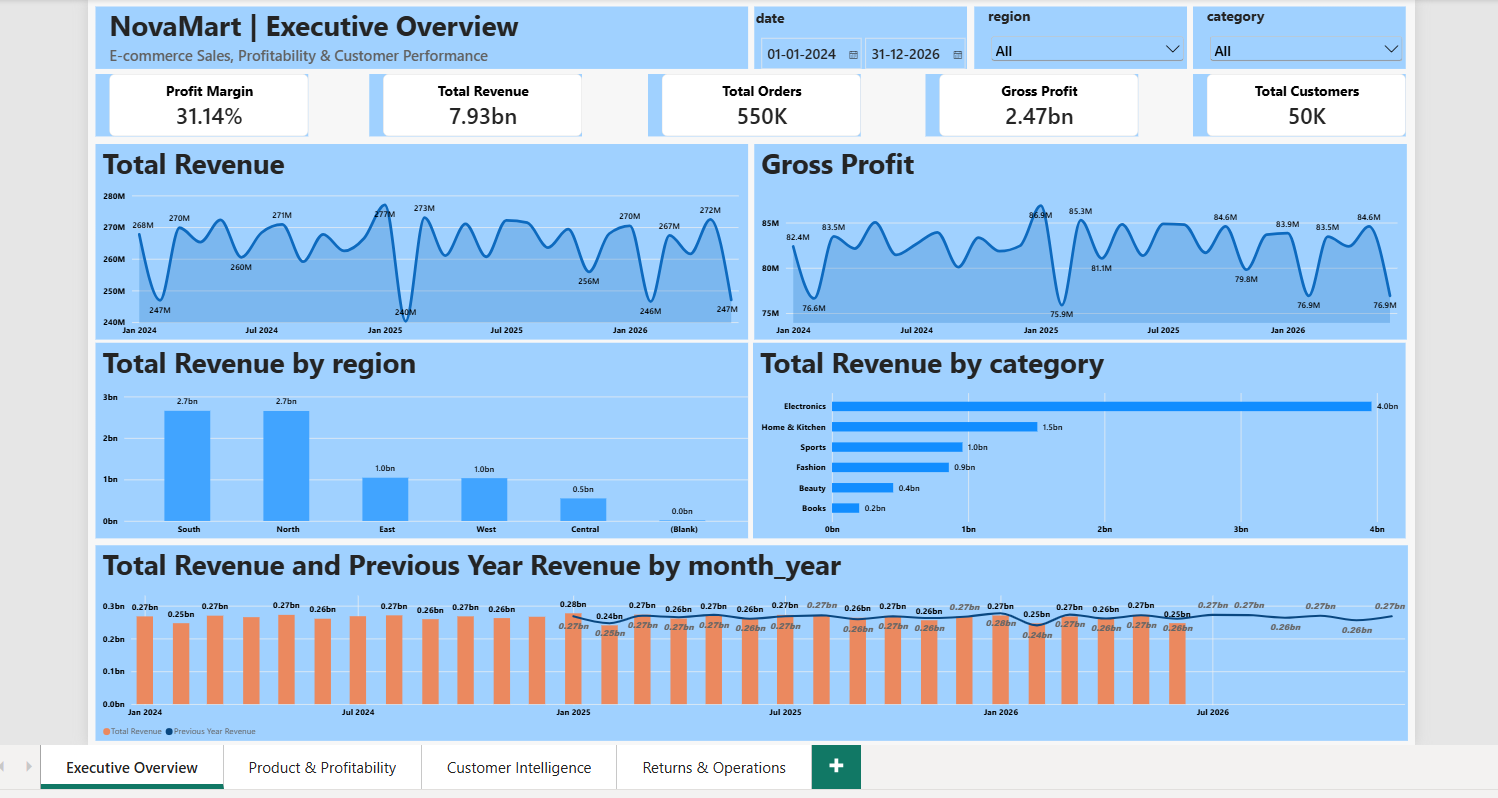

Layout of this report page (visuals, bound fields, positions):
{"tool":"powerbi","page":{"name":"Executive Overview","canvas":[1920,1080],"ordinal":0},"visuals":[{"type":"textbox","title":"NovaMart | Executive Overview","box":[10.9,10.9,945,90],"z":0},{"type":"slicer","title":"date","fields":{"Values":["dim_date.date"]},"box":[964.5,10.9,308,90],"z":1000},{"type":"slicer","title":"region","fields":{"Values":["customers_clean.region"]},"box":[1283,10.9,308,90],"z":2000},{"type":"slicer","title":"category","fields":{"Values":["products_clean.category"]},"box":[1600,10,308,90],"z":3000},{"type":"cardVisual","fields":{"Data":["Sales_measures.Total Revenue"]},"box":[407.2,108.6,308,90],"z":4000},{"type":"cardVisual","fields":{"Data":["Profitability_measures.Profit Margin"]},"box":[10.9,108.6,308,90],"z":5000},{"type":"cardVisual","fields":{"Data":["Sales_measures.Total Orders"]},"box":[810.7,108.6,308,90],"z":6000},{"type":"cardVisual","title":"Profit","fields":{"Data":["Profitability_measures.Gross Profit"]},"box":[1212.5,108.6,308,90],"z":7000},{"type":"cardVisual","fields":{"Data":["Customer_measures.Total Customers"]},"box":[1599.7,108.6,308,90],"z":8000},{"type":"lineChart","title":"Total Revenue","fields":{"Category":["dim_date.month_year"],"Y":["Sales_measures.Total Revenue"]},"box":[10,210,945,283],"z":10000},{"type":"lineChart","title":"Gross Profit","fields":{"Category":["dim_date.month_year"],"Y":["Profitability_measures.Gross Profit"]},"box":[964.5,209.9,945,283],"z":11000},{"type":"columnChart","title":"Total Revenue by region","fields":{"Category":["customers_clean.region"],"Y":["Sales_measures.Total Revenue"]},"box":[10.9,498,945,283],"z":12000},{"type":"barChart","fields":{"Category":["products_clean.category"],"Y":["Sales_measures.Total Revenue"]},"box":[962.7,498,945,283],"z":13000},{"type":"lineStackedColumnComboChart","fields":{"Category":["dim_date.month_year"],"Y":["Sales_measures.Total Revenue"],"Y2":["TimeIntelli_measures.Previous Year Revenue"]},"box":[10,791,1900,283],"z":14000}]}

Visuals, with their boxes on the page's 1920x1080 design canvas (x1, y1, x2, y2). These are canvas units, not pixel positions in the 1498x798 screenshot, which may show the page scaled, cropped or inside an application window:
"NovaMart | Executive Overview" textbox: [x1=11, y1=11, x2=956, y2=101]
"date" slicer: [x1=964, y1=11, x2=1272, y2=101]
"region" slicer: [x1=1283, y1=11, x2=1591, y2=101]
"category" slicer: [x1=1600, y1=10, x2=1908, y2=100]
cardVisual - Sales_measures.Total Revenue: [x1=407, y1=109, x2=715, y2=199]
cardVisual - Profitability_measures.Profit Margin: [x1=11, y1=109, x2=319, y2=199]
cardVisual - Sales_measures.Total Orders: [x1=811, y1=109, x2=1119, y2=199]
"Profit" cardVisual: [x1=1212, y1=109, x2=1520, y2=199]
cardVisual - Customer_measures.Total Customers: [x1=1600, y1=109, x2=1908, y2=199]
"Total Revenue" lineChart: [x1=10, y1=210, x2=955, y2=493]
"Gross Profit" lineChart: [x1=964, y1=210, x2=1910, y2=493]
"Total Revenue by region" columnChart: [x1=11, y1=498, x2=956, y2=781]
barChart - products_clean.category x Sales_measures.Total Revenue: [x1=963, y1=498, x2=1908, y2=781]
lineStackedColumnComboChart - dim_date.month_year x Sales_measures.Total Revenue: [x1=10, y1=791, x2=1910, y2=1074]
